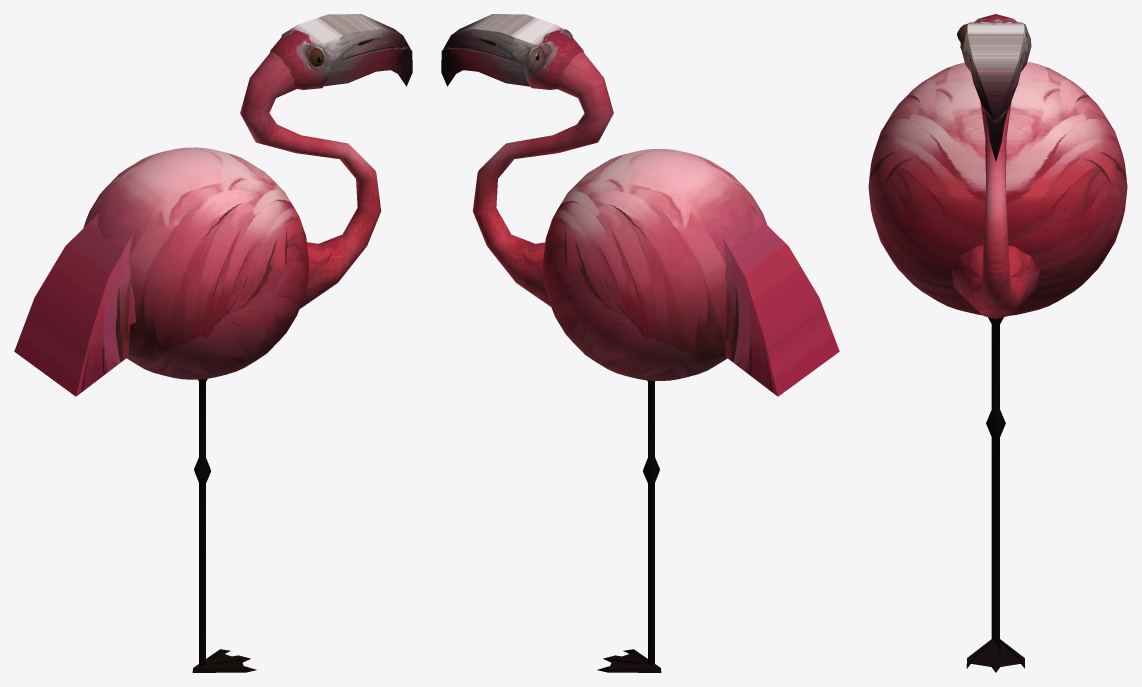
Rendered from huolieniao.FBX.
The picture shows the model from 3 angles, left to right: view 1: azimuth 30°, elevation 25°; view 2: azimuth 150°, elevation 25°; view 3: azimuth 270°, elevation 25°; orthographic projection. The views are drawn at different scales.
Visible parts, largest first — view 1: 对象003, 对象004, Box001; view 2: 对象003, 对象004, Box001; view 3: 对象003, 对象004, Box001.
Part boxes in pixels (x1=…): 对象003: x1=14, y1=14, x2=412, y2=396; 对象004: x1=194, y1=378, x2=210, y2=665; Box001: x1=192, y1=649, x2=256, y2=672; 对象003: x1=441, y1=14, x2=839, y2=396; 对象004: x1=643, y1=380, x2=659, y2=665; Box001: x1=597, y1=649, x2=661, y2=672; 对象003: x1=868, y1=14, x2=1127, y2=319; 对象004: x1=986, y1=317, x2=1005, y2=642; Box001: x1=966, y1=639, x2=1024, y2=672.
Bounding box in the file's own units: 750 × 413 × 1201.
Materials: 6 (1 with a texture image).
